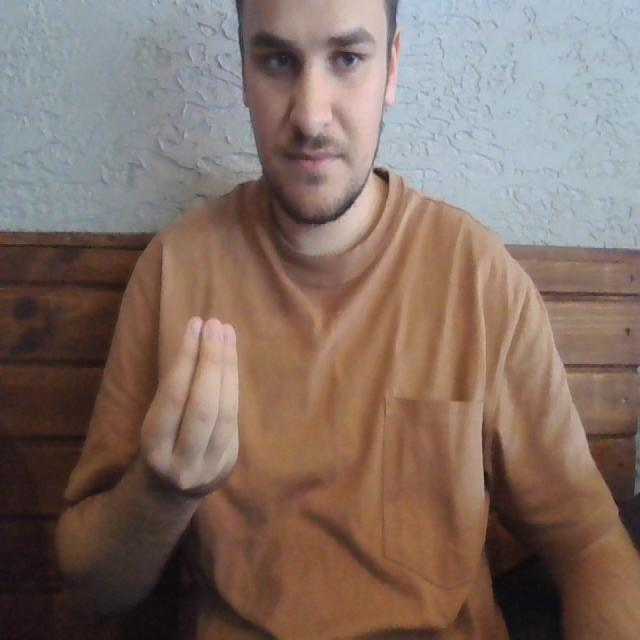iyi: (139, 304, 247, 501)
